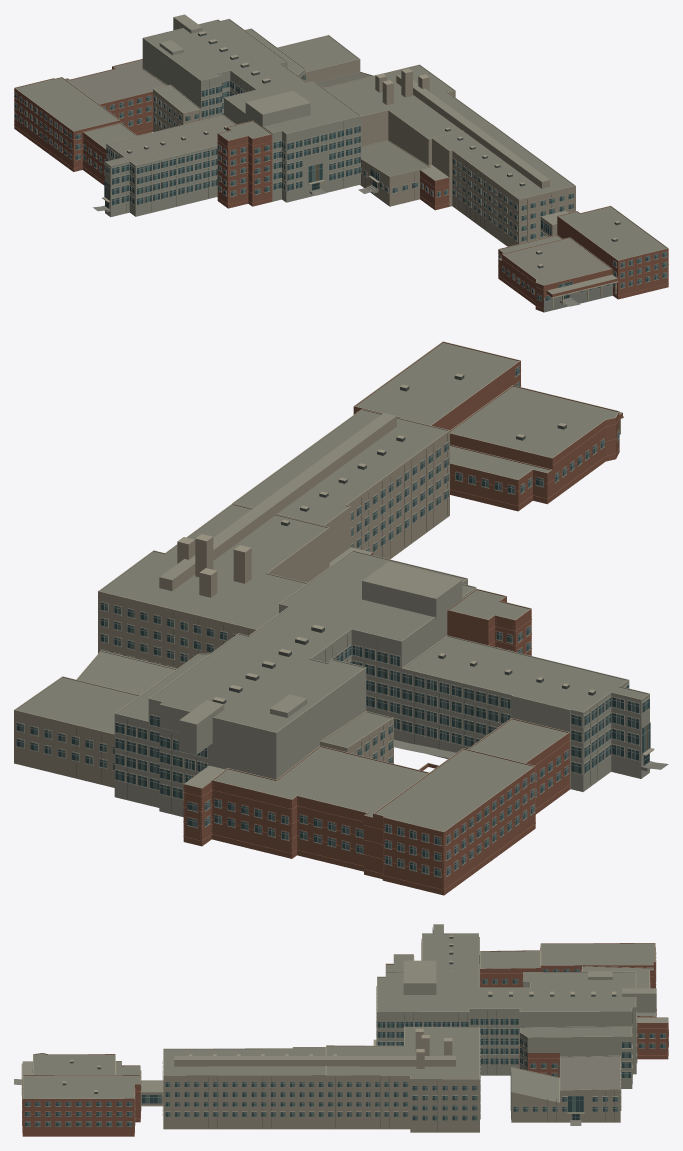
File: site.glb
The picture shows the model from 3 angles, top to bottom: view 1: azimuth 30°, elevation 25°; view 2: azimuth 150°, elevation 25°; view 3: azimuth 270°, elevation 25°; orthographic projection. The views are drawn at different scales.
Visible parts, largest first — view 1: roof-57a37f8e, uo-035, uo-036; view 2: roof-57a37f8e, uo-035, uo-036; view 3: roof-57a37f8e, uo-035, uo-036.
Part boxes in pixels (box(x1,y1,x2,y2)): roof-57a37f8e: box(14, 14, 373, 217); uo-035: box(324, 64, 575, 246); uo-036: box(498, 205, 668, 312); roof-57a37f8e: box(14, 550, 654, 895); uo-035: box(98, 409, 449, 668); uo-036: box(353, 341, 623, 511); roof-57a37f8e: box(373, 924, 668, 1122); uo-035: box(162, 1026, 480, 1132); uo-036: box(21, 1053, 163, 1136).
Bounding box in the file's own units: 117 × 25.36 × 190.
